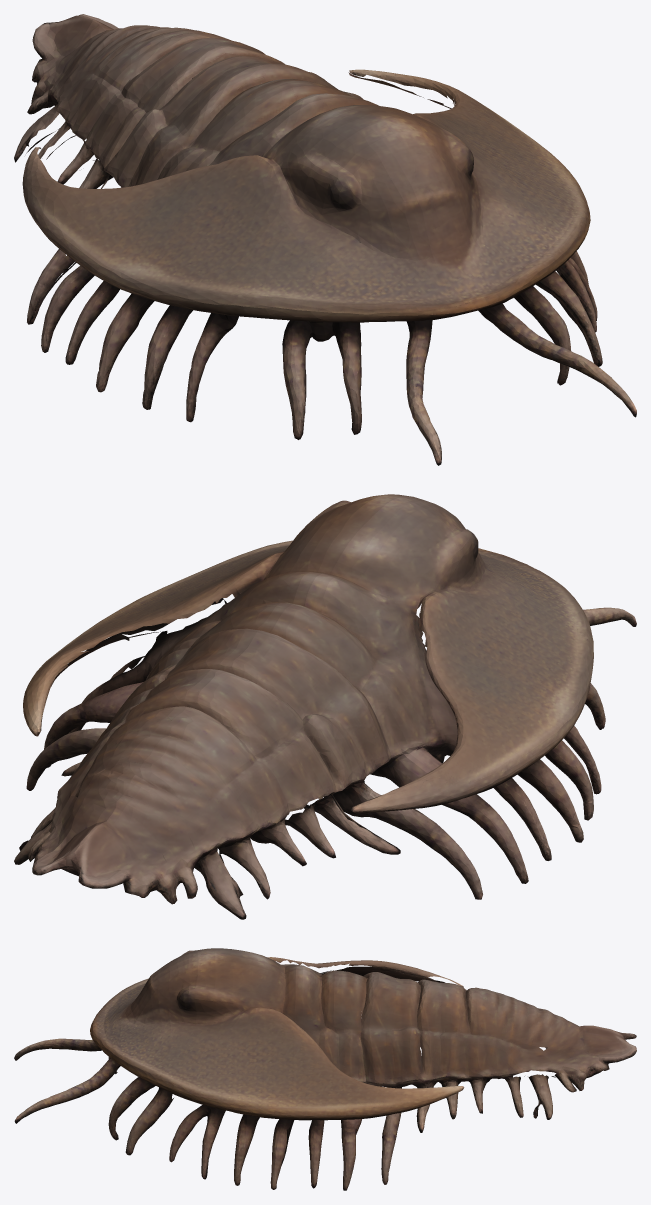
3 renders of one model, top to bottom at view 1: azimuth 30°, elevation 25°; view 2: azimuth 150°, elevation 25°; view 3: azimuth 270°, elevation 25°, orthographic. The views are drawn at different scales.
Parts seen in each view (by area): view 1: world; view 2: world; view 3: world.
Boxes of the visible parts, x1,y1,x2,y2 form: world: [14, 14, 636, 465]; world: [14, 494, 636, 919]; world: [14, 948, 636, 1190].
Bounding box in the file's own units: 0.5864 × 0.2878 × 1.
Materials: 1 (1 with a texture image).
